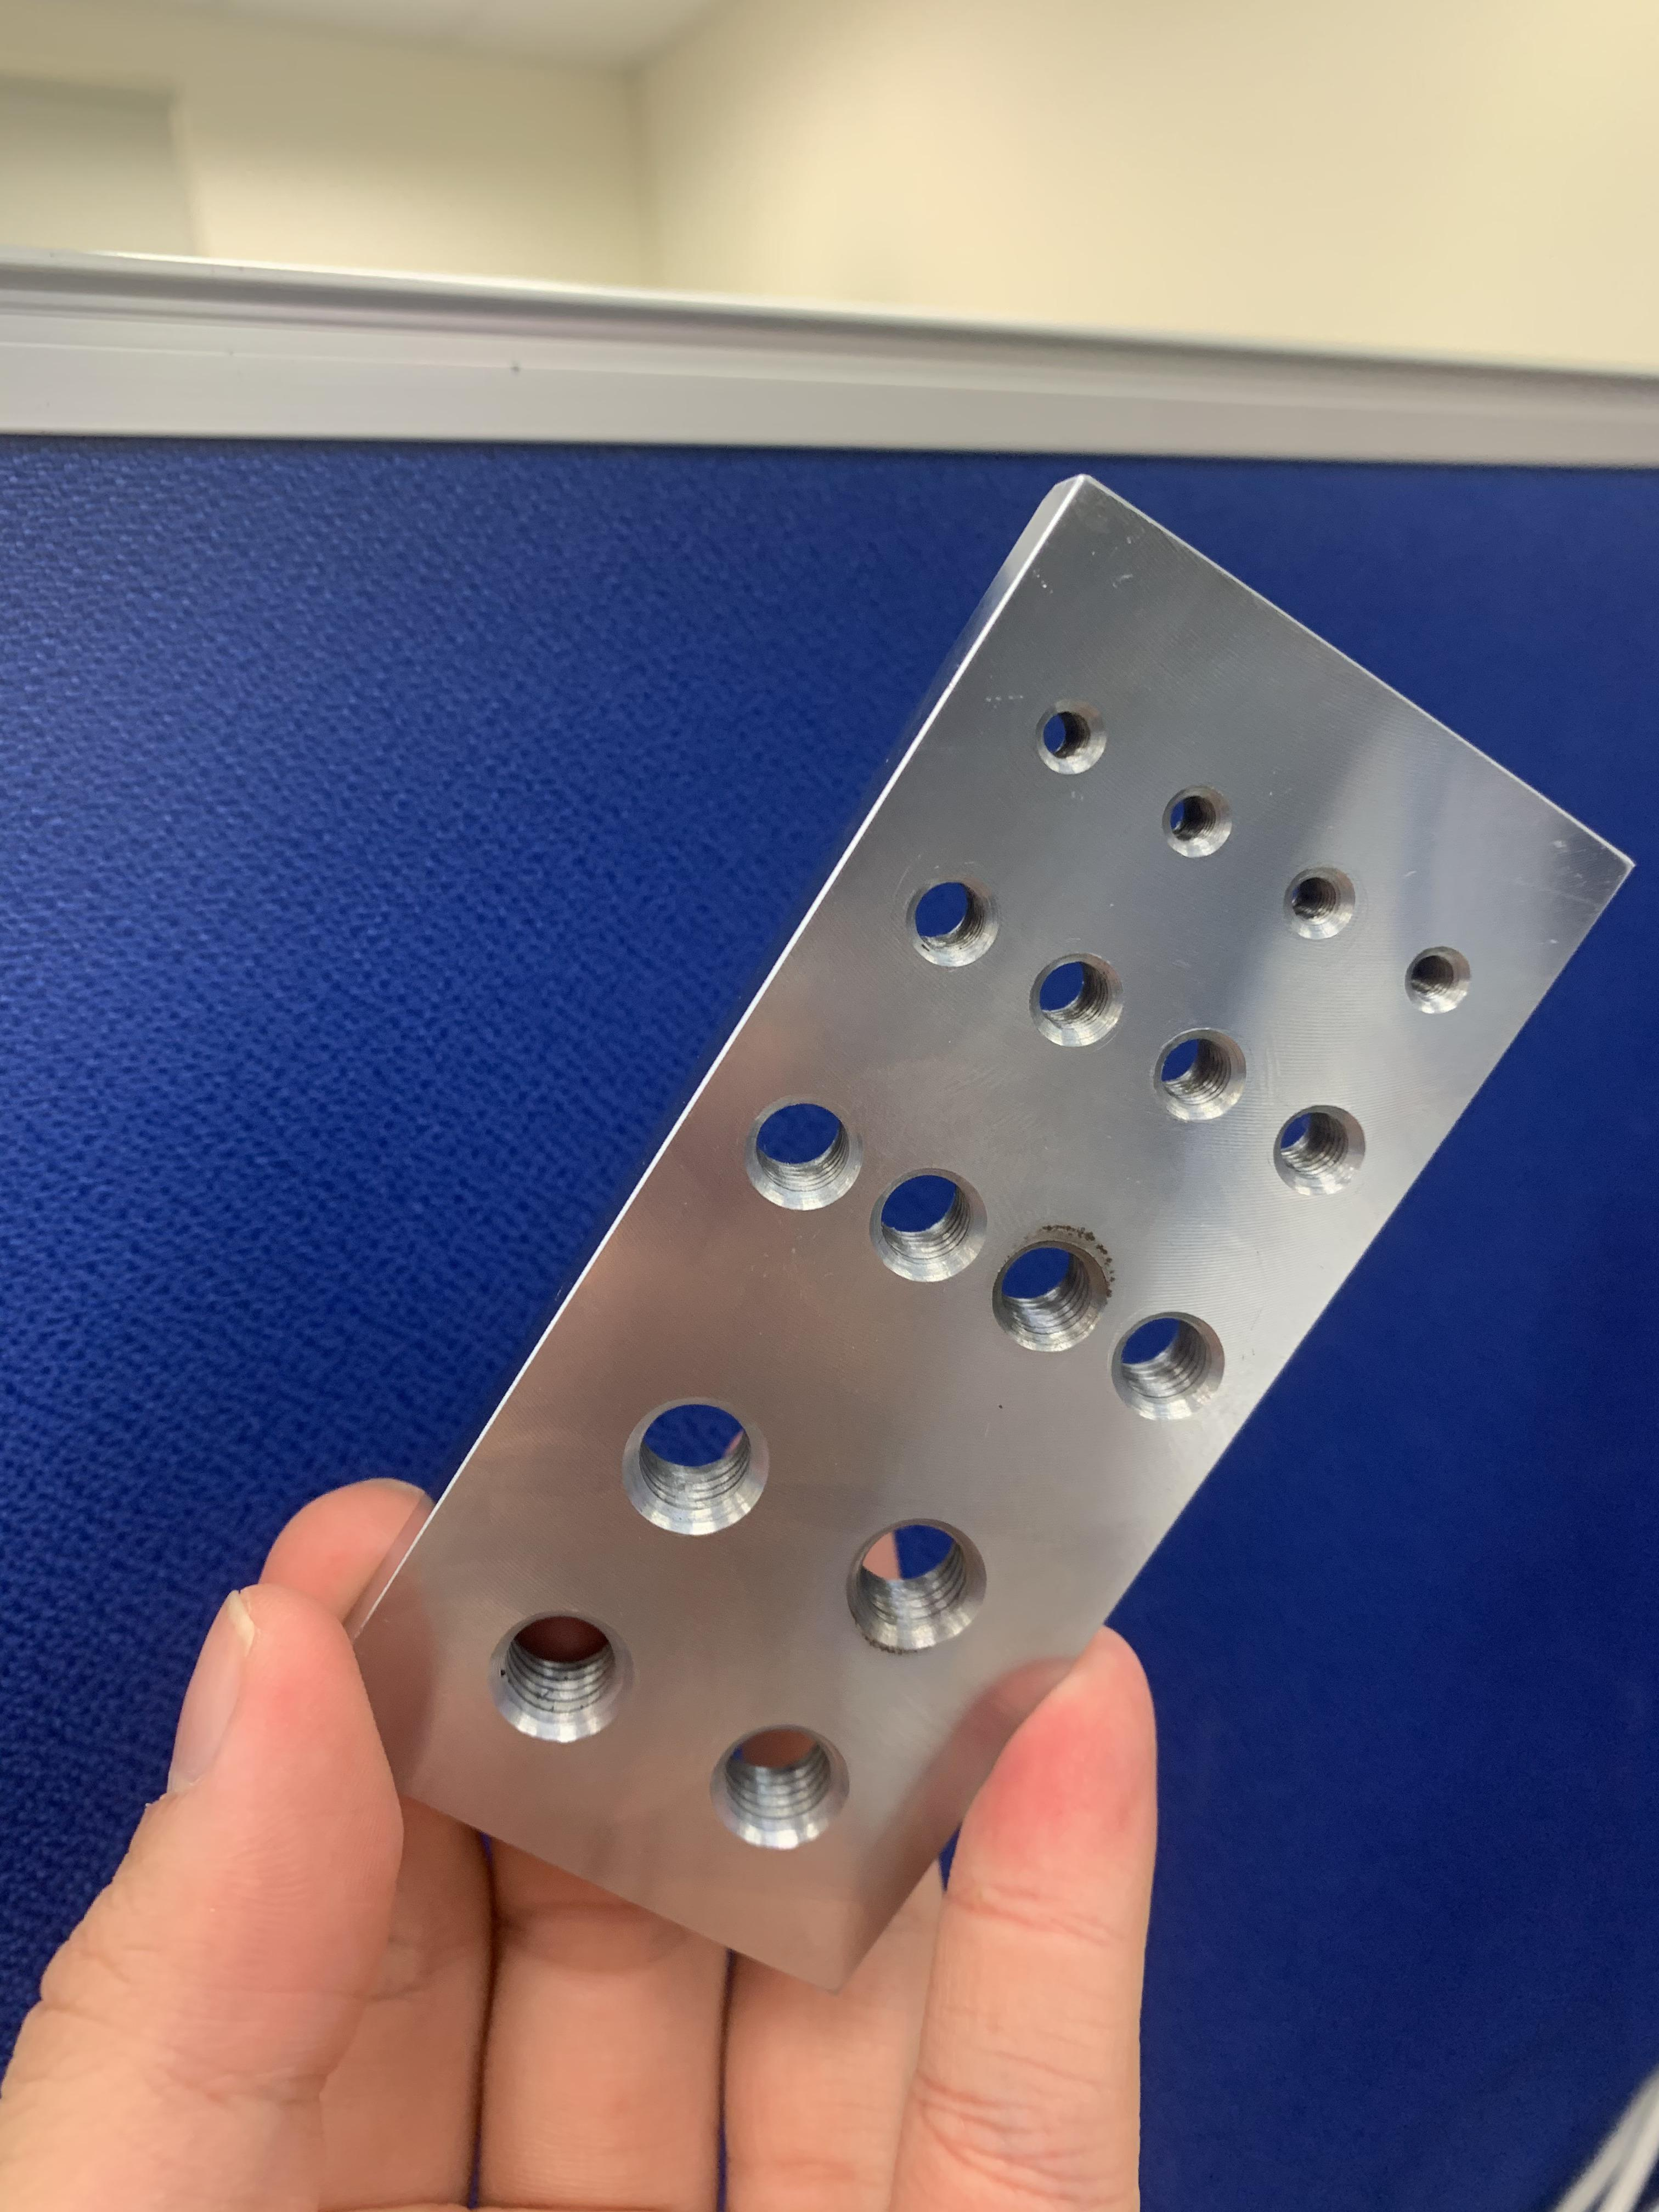hole: (469, 1584, 659, 1781), (607, 1366, 788, 1554), (691, 1709, 861, 1872), (840, 1505, 1004, 1667), (983, 1217, 1126, 1374), (859, 1159, 990, 1299), (734, 1084, 862, 1227), (1132, 1013, 1261, 1152), (1102, 1306, 1238, 1435), (890, 861, 1012, 992), (1133, 763, 1256, 879), (1007, 671, 1115, 789), (1266, 1092, 1375, 1199), (1024, 943, 1126, 1053), (1278, 850, 1357, 957), (1397, 928, 1480, 1024)
